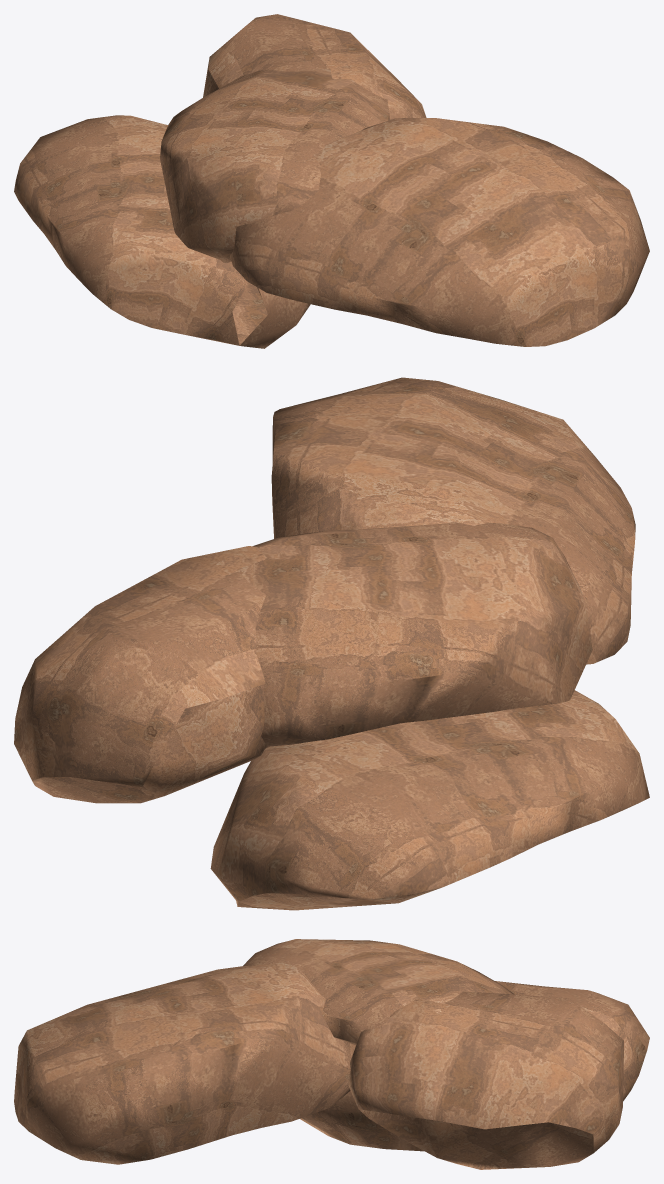
File: Ob_Rock4_RC.fbx
The picture shows the model from 3 angles, top to bottom: view 1: azimuth 30°, elevation 25°; view 2: azimuth 150°, elevation 25°; view 3: azimuth 270°, elevation 25°; orthographic projection. The views are drawn at different scales.
Parts seen in each view (by area): view 1: Ob_Rock4_RC; view 2: Ob_Rock4_RC; view 3: Ob_Rock4_RC.
Boxes of the visible parts, x1,y1,x2,y2 form: Ob_Rock4_RC: (14,14,649,348); Ob_Rock4_RC: (14,377,649,910); Ob_Rock4_RC: (14,939,649,1169).
Size of the model in its own units: 986 by 480 by 1402.
